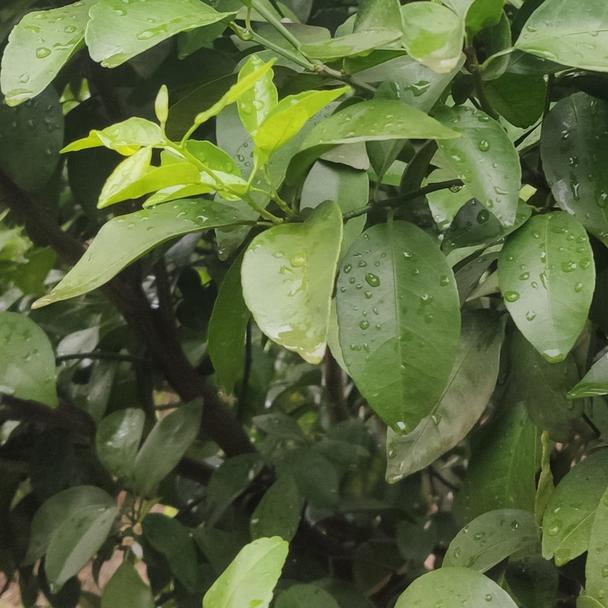shoot: (75, 95, 305, 221)
